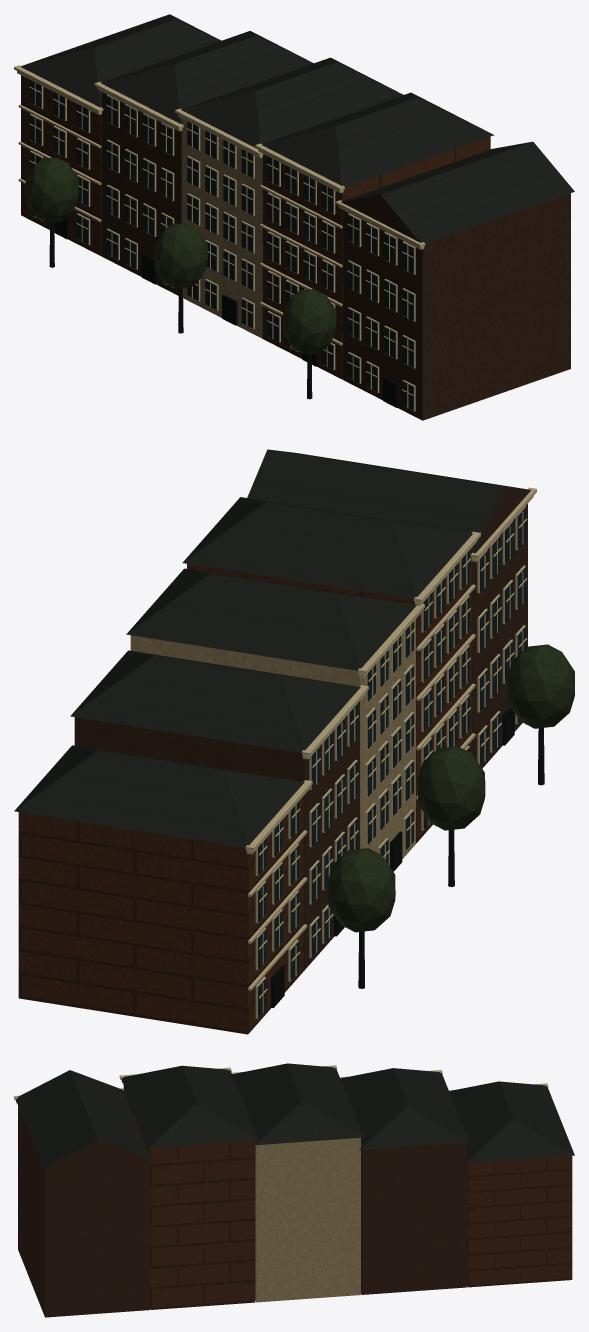
3 views of the same model, one above another, from view 1: azimuth 30°, elevation 25°; view 2: azimuth 150°, elevation 25°; view 3: azimuth 270°, elevation 25° (orthographic). The views are drawn at different scales.
Parts seen in each view (by area): view 1: leuvehaven-oost-3, leuvehaven-oost-6, leuvehaven-oost-5, leuvehaven-oost-4, leuvehaven-oost-2, leuvehaven-oost-1, leuvehaven-oost-7, leuvehaven-oost-0; view 2: leuvehaven-oost-3, leuvehaven-oost-2, leuvehaven-oost-4, leuvehaven-oost-5, leuvehaven-oost-6, leuvehaven-oost-1, leuvehaven-oost-7, leuvehaven-oost-0; view 3: leuvehaven-oost-3, leuvehaven-oost-6, leuvehaven-oost-2, leuvehaven-oost-7.
Boxes of the visible parts, left/top/right/bottom form: leuvehaven-oost-3: left=21, top=14, right=574, bottom=243; leuvehaven-oost-6: left=101, top=92, right=570, bottom=420; leuvehaven-oost-5: left=30, top=80, right=413, bottom=410; leuvehaven-oost-4: left=14, top=65, right=425, bottom=411; leuvehaven-oost-2: left=21, top=75, right=490, bottom=379; leuvehaven-oost-1: left=25, top=157, right=336, bottom=354; leuvehaven-oost-7: left=182, top=118, right=262, bottom=338; leuvehaven-oost-0: left=49, top=216, right=398, bottom=407; leuvehaven-oost-3: left=14, top=449, right=527, bottom=847; leuvehaven-oost-2: left=18, top=548, right=471, bottom=1034; leuvehaven-oost-4: left=245, top=487, right=536, bottom=1018; leuvehaven-oost-5: left=258, top=507, right=526, bottom=1017; leuvehaven-oost-6: left=74, top=486, right=530, bottom=970; leuvehaven-oost-1: left=328, top=644, right=574, bottom=932; leuvehaven-oost-7: left=130, top=619, right=415, bottom=865; leuvehaven-oost-0: left=271, top=706, right=544, bottom=1007; leuvehaven-oost-3: left=15, top=1063, right=574, bottom=1167; leuvehaven-oost-6: left=18, top=1106, right=466, bottom=1317; leuvehaven-oost-2: left=123, top=1085, right=572, bottom=1309; leuvehaven-oost-7: left=255, top=1137, right=360, bottom=1302.
Bounding box in the file's own units: 31.75 × 21.6 × 58.44.
8 materials, 8 textured.
